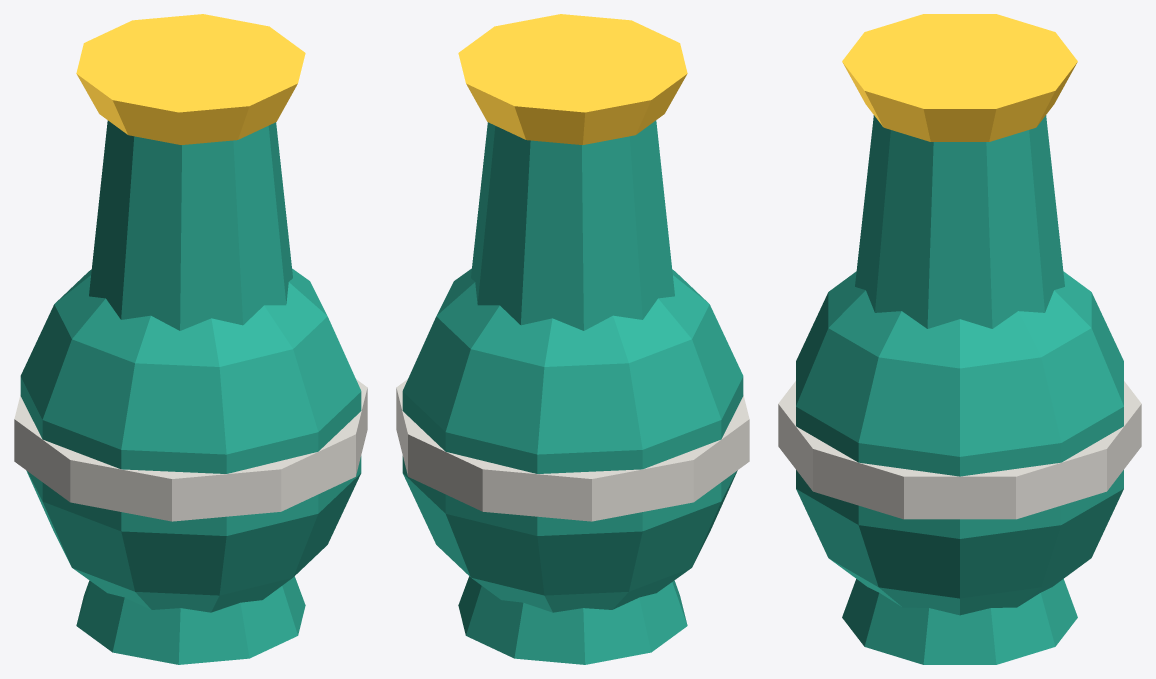
The model's file is ornament_vase.glb.
3 renders of one model, left to right at view 1: azimuth 30°, elevation 25°; view 2: azimuth 150°, elevation 25°; view 3: azimuth 270°, elevation 25°, orthographic.
Parts seen in each view (by area): view 1: vase_vase_glaze, vase_gold, vase_porcelain; view 2: vase_vase_glaze, vase_gold, vase_porcelain; view 3: vase_vase_glaze, vase_gold, vase_porcelain.
Boxes of the visible parts, x1=… form: vase_vase_glaze: x1=20, y1=120, x2=361, y2=664; vase_gold: x1=76, y1=14, x2=305, y2=144; vase_porcelain: x1=14, y1=379, x2=367, y2=521; vase_vase_glaze: x1=402, y1=120, x2=743, y2=664; vase_gold: x1=458, y1=14, x2=687, y2=144; vase_porcelain: x1=396, y1=379, x2=749, y2=521; vase_vase_glaze: x1=796, y1=115, x2=1123, y2=664; vase_gold: x1=842, y1=14, x2=1077, y2=141; vase_porcelain: x1=778, y1=381, x2=1141, y2=519.
Bounding box in the file's own units: 0.1465 × 0.26 × 0.154.
